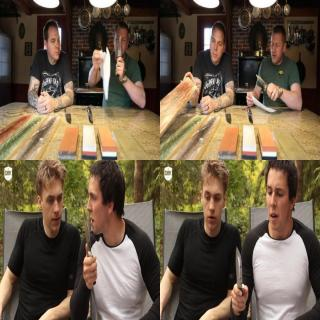knife: (80, 203, 98, 287), (230, 243, 250, 308), (254, 71, 274, 99), (116, 33, 124, 69)
